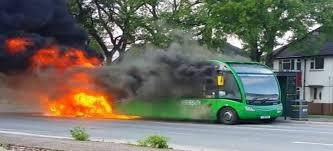fire: (23, 43, 131, 119)
